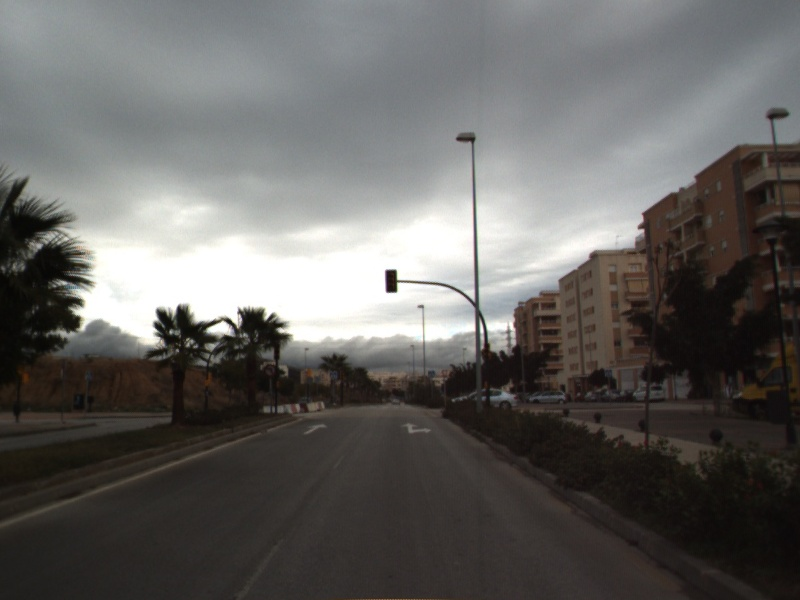STRAIGHT: (302, 421, 330, 436)
STRAIGHT_RIGHT: (399, 420, 434, 436)
